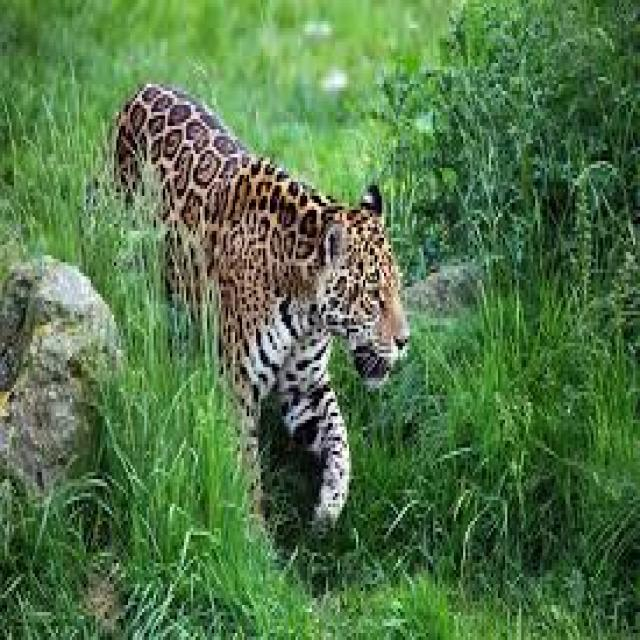Jaguar: (109, 81, 412, 549)
